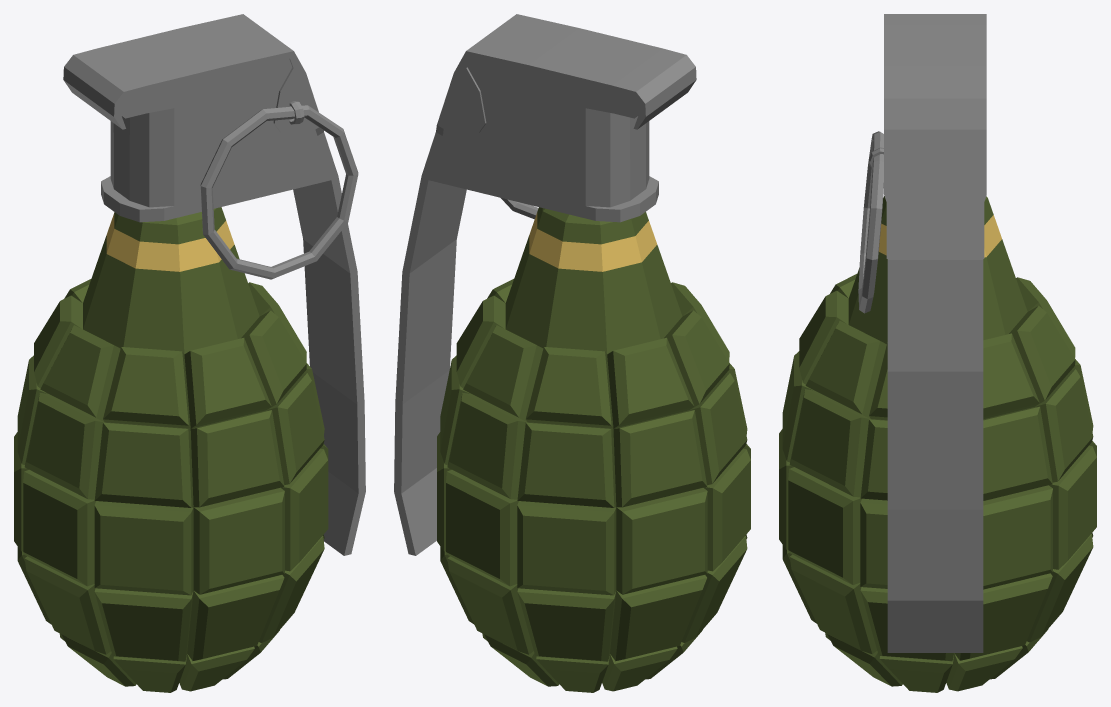
The model's file is scene_H5ioGVoMLV.glb.
The picture shows the model from 3 angles, left to right: view 1: azimuth 30°, elevation 25°; view 2: azimuth 150°, elevation 25°; view 3: azimuth 270°, elevation 25°; orthographic projection.
Visible parts, largest first — view 1: Grenade, Pin; view 2: Grenade; view 3: Grenade, Pin.
Part boxes in pixels (x1,y1,x2,y2): Grenade: (14,14,365,692); Pin: (200,105,358,279); Grenade: (394,14,750,692); Grenade: (779,14,1096,692); Pin: (858,131,883,313).
Bounding box in the file's own units: 0.659 × 1.23 × 0.5749.
